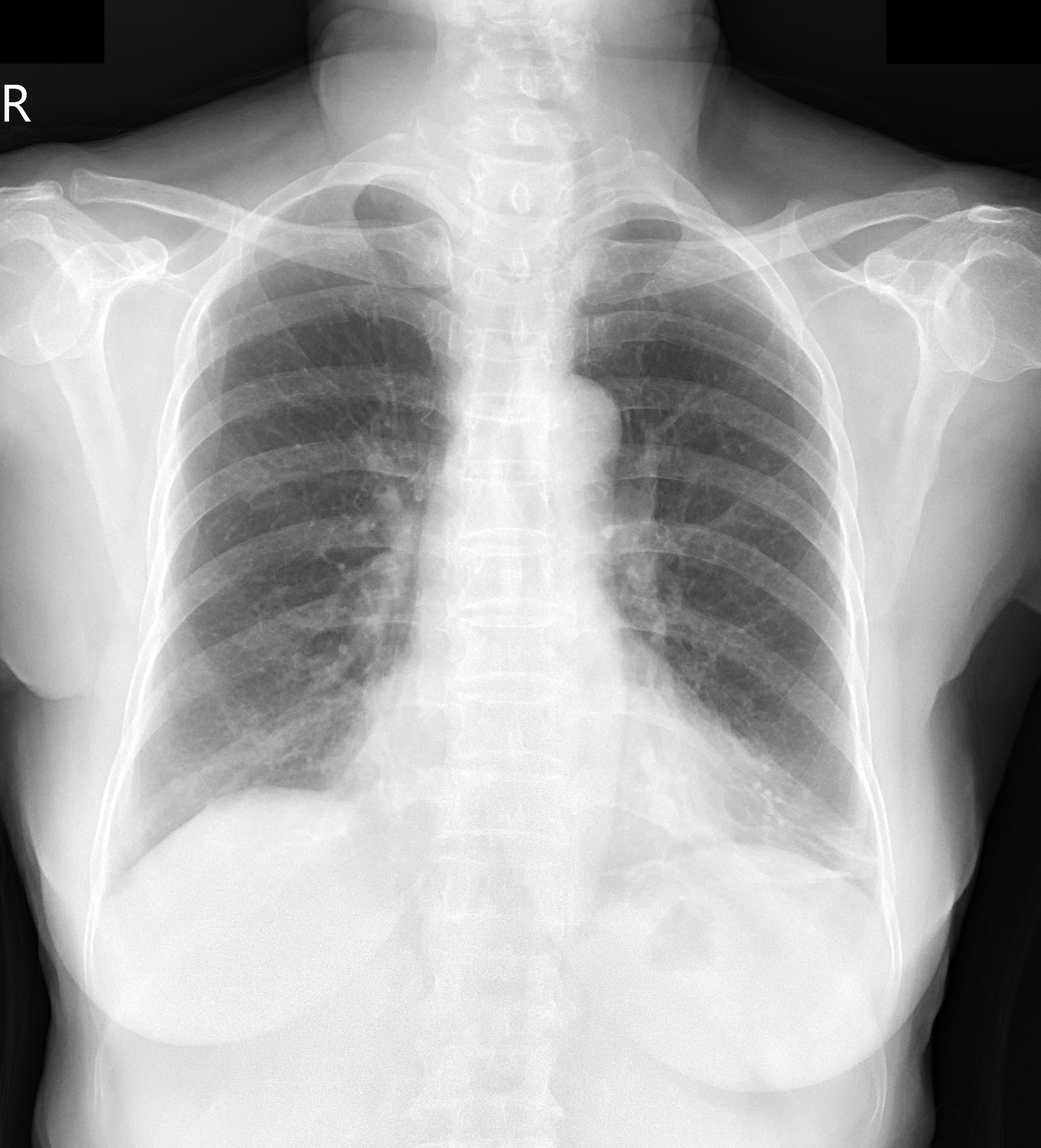Cardiomegaly: (337, 694, 811, 834)
Pulmonary fibrosis: (807, 825, 879, 876)
